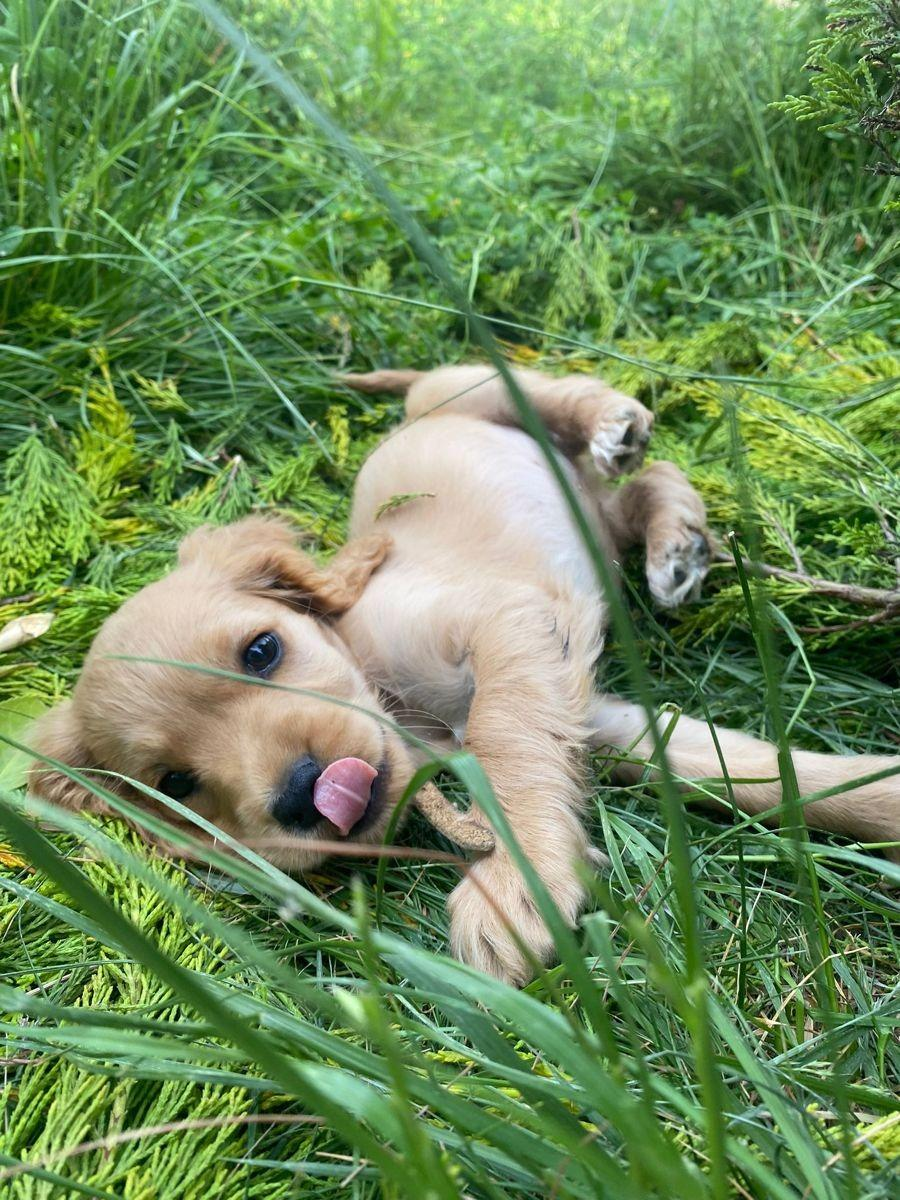puppy-dog: (23, 353, 900, 997)
